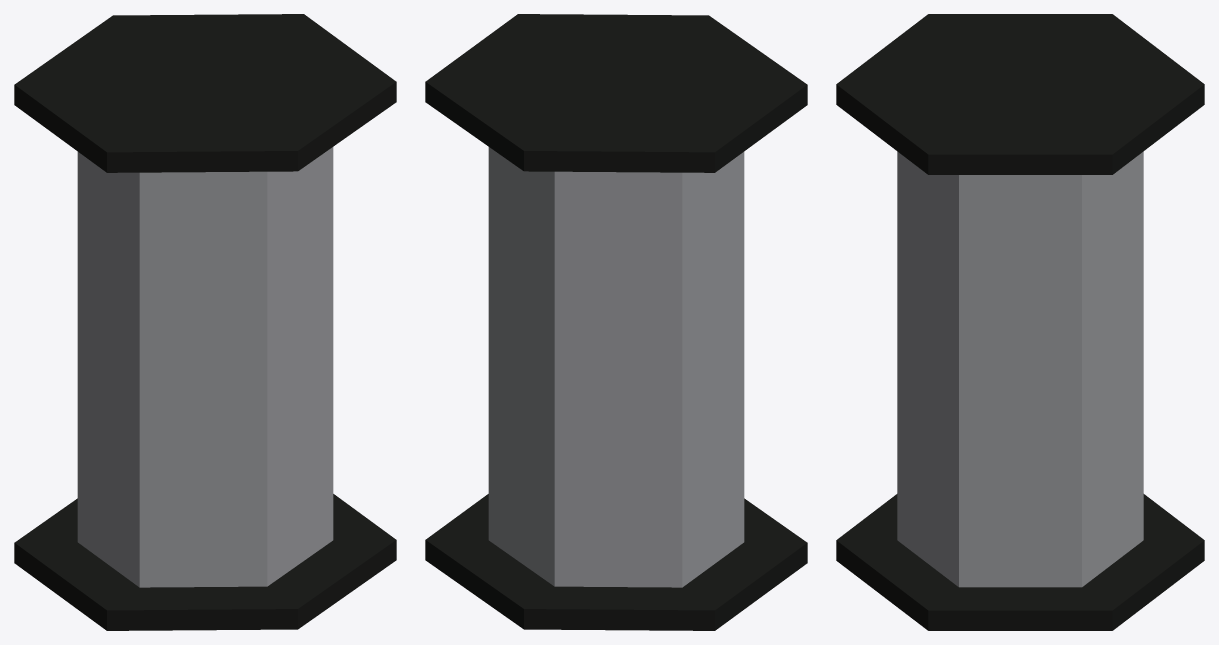
Rendered from Thread.fbx.
3 renders of one model, left to right at view 1: azimuth 30°, elevation 25°; view 2: azimuth 150°, elevation 25°; view 3: azimuth 270°, elevation 25°, orthographic.
Parts seen in each view (by area): view 1: Thread; view 2: Thread; view 3: Thread.
Boxes of the visible parts, x1,y1,x2,y2 form: Thread: (14, 14, 396, 630); Thread: (425, 14, 807, 630); Thread: (836, 14, 1204, 630).
Bounding box in the file's own units: 3.07 × 4.85 × 3.4.
